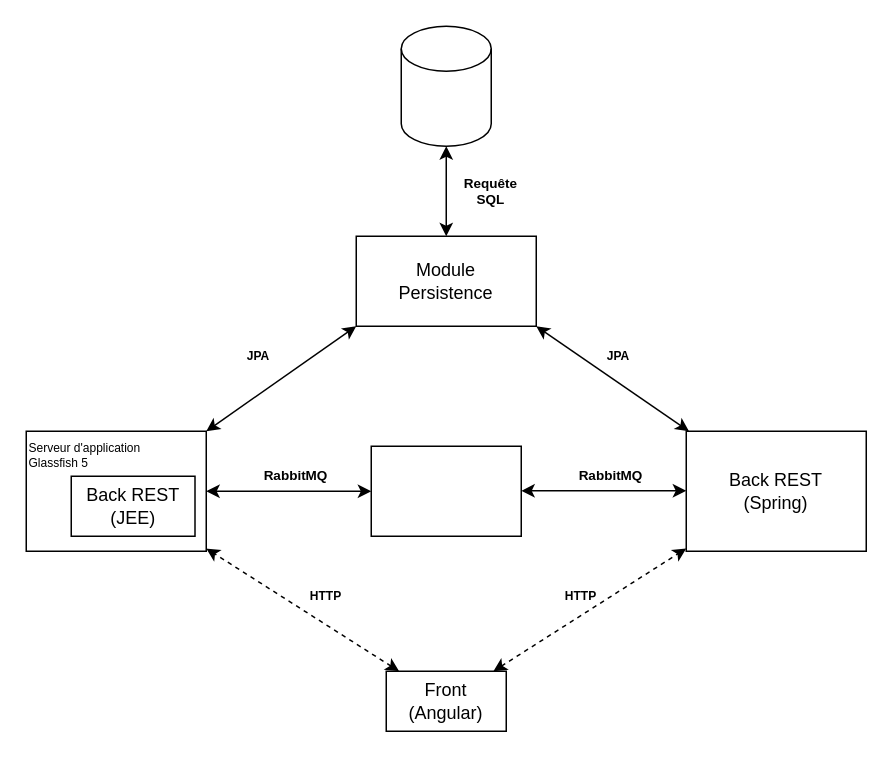
Image size: 893x758. Some labels were removed from this diagram. The shapes that lost their labels are listed below. From the top down, each one's box as (x1, y1, x2, y2) in pixels, then its label:
(400, 25, 491, 146): MySQL
(370, 445, 521, 536): Delivery Manager
